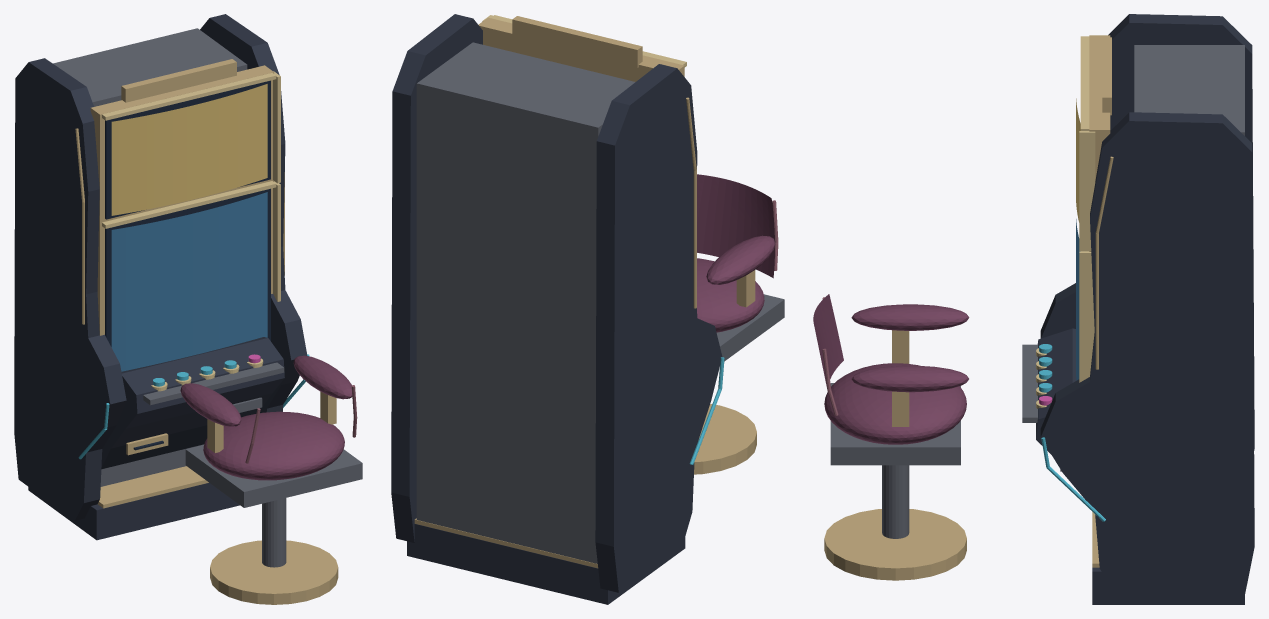
Rendered from royal_crescent_station.glb.
The picture shows the model from 3 angles, left to right: view 1: azimuth 30°, elevation 25°; view 2: azimuth 150°, elevation 25°; view 3: azimuth 270°, elevation 25°; orthographic projection. The views are drawn at different scales.
Parts seen in each view (by area): view 1: left_sculpted_cheek, main_CURVED_DISPLAY, upper_CURVED_DISPLAY, integrated_control_belly, central_rigid_core, chair_deep_tufted_seat, chair_weighted_base, right_sculpted_cheek, lower_kick_plinth, chair_seat_underframe, upper_outer_bezel, main_inner_gasket (+15 smaller); view 2: central_rigid_core, left_sculpted_cheek, right_sculpted_cheek, lower_kick_plinth, chair_curved_upholstery_back, upper_outer_bezel, chair_weighted_base, crown_badge, chair_deep_tufted_seat, chair_padded_arm_-1, chair_seat_underframe, champagne_lower_toe (+2 smaller); view 3: right_sculpted_cheek, central_rigid_core, left_sculpted_cheek, chair_weighted_base, chair_deep_tufted_seat, chair_seat_underframe, chair_padded_arm_-1, chair_padded_arm_1, chair_pedestal, integrated_control_belly, lower_kick_plinth, upper_outer_bezel (+9 smaller).
Part boxes in pixels (<box>): left_sculpted_cheek: <box>14,58,126,520</box>; main_CURVED_DISPLAY: <box>111,192,267,371</box>; upper_CURVED_DISPLAY: <box>111,84,267,215</box>; integrated_control_belly: <box>101,337,284,469</box>; central_rigid_core: <box>53,28,247,486</box>; chair_deep_tufted_seat: <box>203,411,344,480</box>; chair_weighted_base: <box>210,540,338,604</box>; right_sculpted_cheek: <box>200,14,307,412</box>; lower_kick_plinth: <box>28,482,239,540</box>; chair_seat_underframe: <box>185,445,362,507</box>; upper_outer_bezel: <box>90,65,274,223</box>; main_inner_gasket: <box>105,188,270,346</box>; central_rigid_core: <box>416,42,635,563</box>; left_sculpted_cheek: <box>595,64,722,592</box>; right_sculpted_cheek: <box>391,14,482,542</box>; lower_kick_plinth: <box>407,524,685,604</box>; chair_curved_upholstery_back: <box>697,174,774,278</box>; upper_outer_bezel: <box>478,17,684,81</box>; chair_weighted_base: <box>694,404,756,474</box>; crown_badge: <box>512,16,642,67</box>; chair_deep_tufted_seat: <box>697,258,764,332</box>; chair_padded_arm_-1: <box>706,235,775,284</box>; chair_seat_underframe: <box>716,294,784,361</box>; champagne_lower_toe: <box>414,518,598,568</box>; right_sculpted_cheek: <box>1040,112,1254,595</box>; central_rigid_core: <box>1134,45,1244,135</box>; left_sculpted_cheek: <box>1040,14,1254,450</box>; chair_weighted_base: <box>824,509,966,580</box>; chair_deep_tufted_seat: <box>824,363,966,444</box>; chair_seat_underframe: <box>830,383,960,465</box>; chair_padded_arm_-1: <box>851,304,969,330</box>; chair_padded_arm_1: <box>851,365,968,392</box>; chair_pedestal: <box>882,465,909,538</box>; integrated_control_belly: <box>1036,328,1076,454</box>; lower_kick_plinth: <box>1092,567,1244,604</box>; upper_outer_bezel: <box>1089,35,1110,251</box>.
Bounding box in the file's own units: 1.06 × 2.2 × 1.79.
